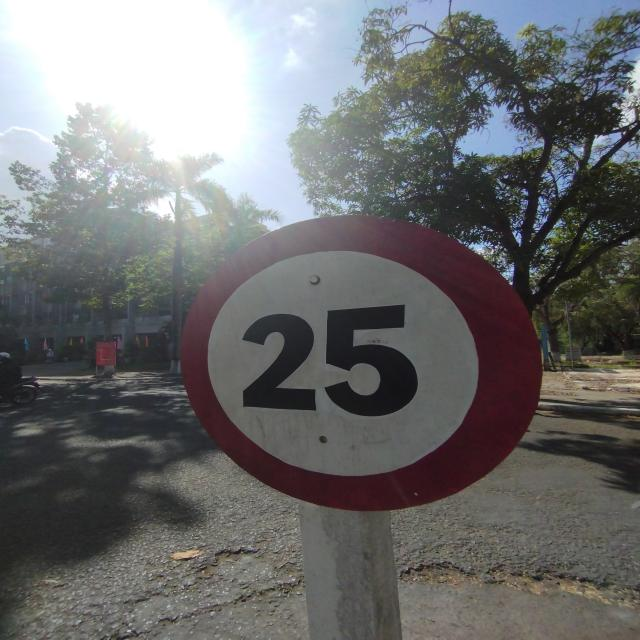Tre_Em: (178, 212, 548, 512)
